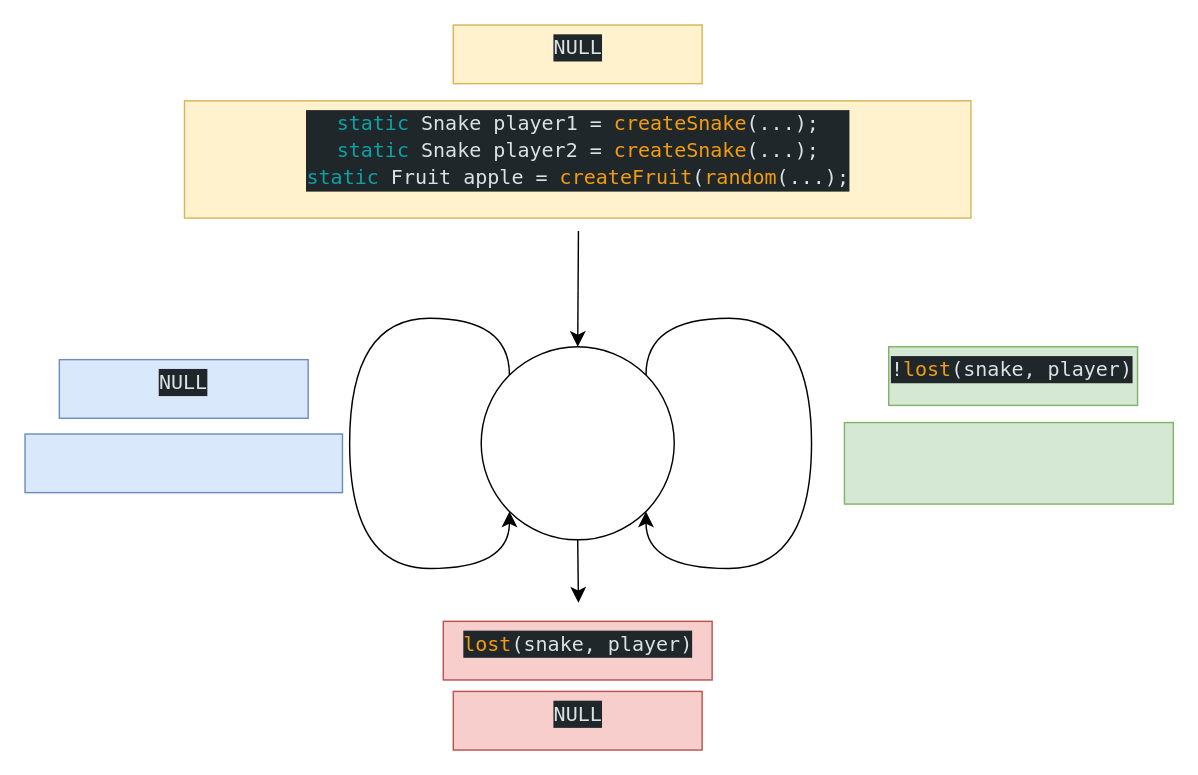
This 1198x775 diagram has some shape labels left out. Each missing label, with the centre of its shape:
"draw (player1, player2);" goes at (x=183, y=463).
"LIVE" goes at (x=577, y=442).
"movement (snake); eatApple (snake, &apple);" goes at (x=1008, y=462).
